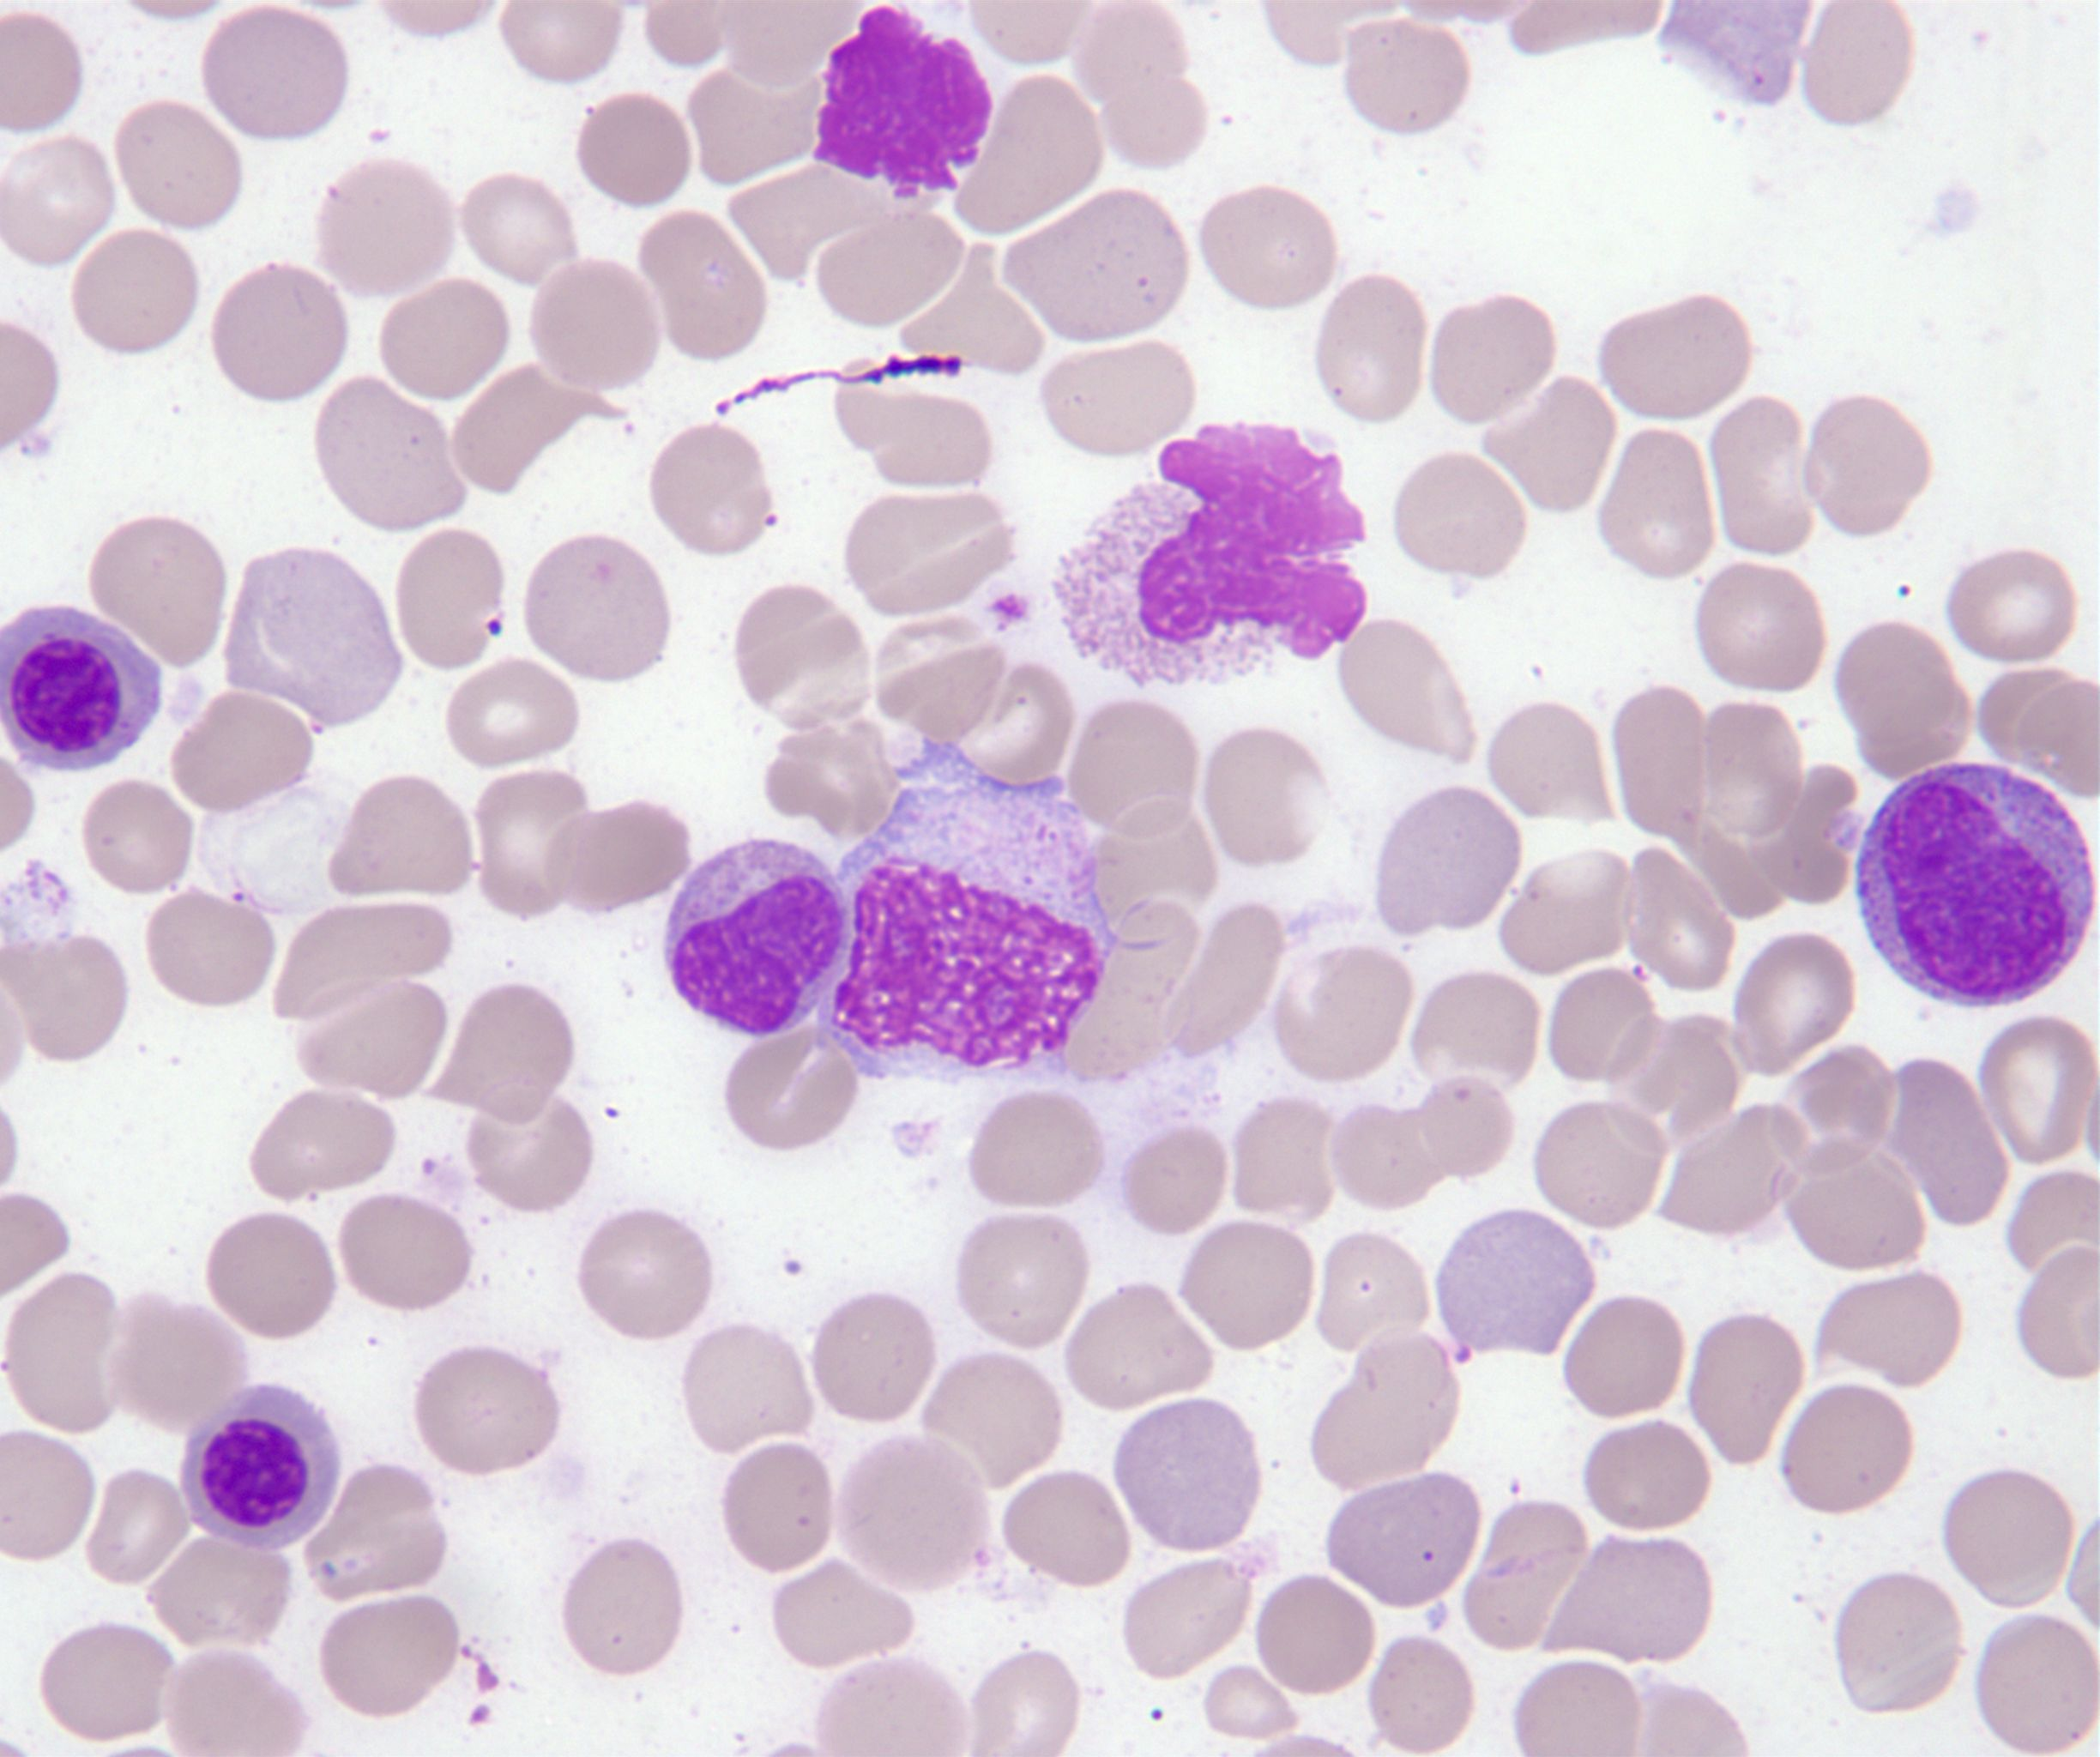24: (2, 607, 160, 771), (181, 1389, 337, 1553)
3: (1852, 764, 2095, 1003)
4: (666, 839, 846, 1035)
x: (830, 742, 1111, 1078), (1052, 424, 1362, 693), (809, 9, 991, 201)
